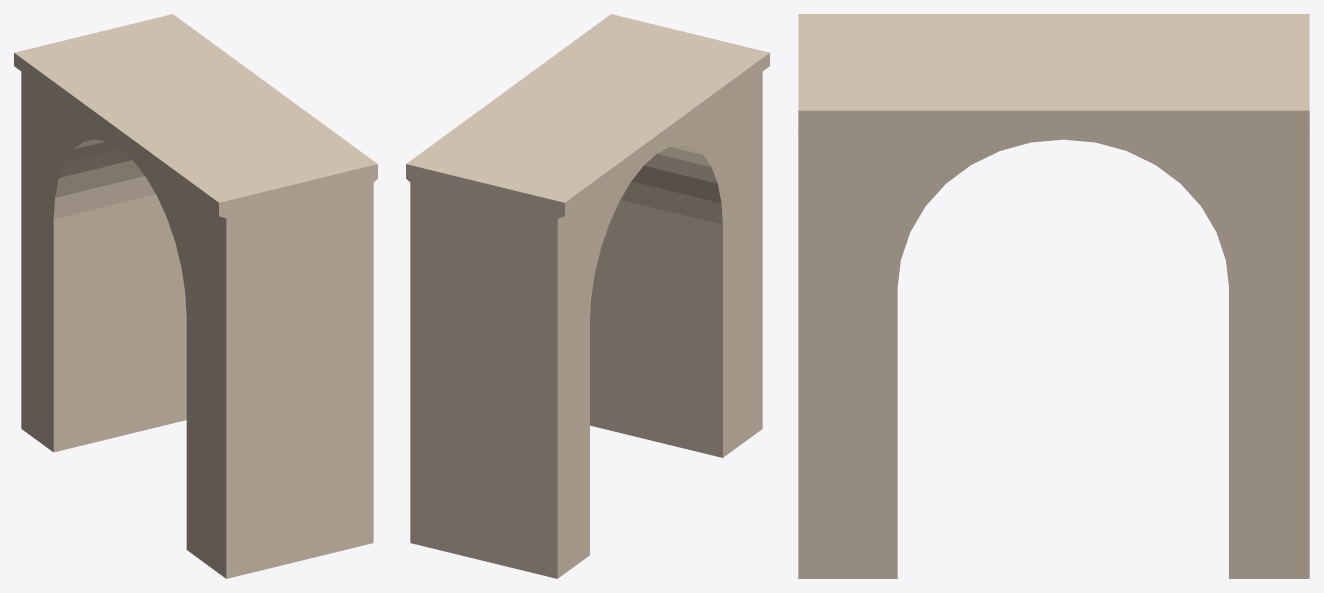
Rendered from BC_DoorWall_A.fbx.
3 renders of one model, left to right at view 1: azimuth 30°, elevation 25°; view 2: azimuth 150°, elevation 25°; view 3: azimuth 270°, elevation 25°, orthographic. The views are drawn at different scales.
Visible parts, largest first — view 1: BC_DoorWall_A; view 2: BC_DoorWall_A; view 3: BC_DoorWall_A.
Part boxes in pixels (bbox=[...]): BC_DoorWall_A: bbox=[14, 14, 377, 578]; BC_DoorWall_A: bbox=[406, 14, 769, 578]; BC_DoorWall_A: bbox=[798, 14, 1309, 578].
Size of the model in its own units: 540 by 1229 by 1209.
